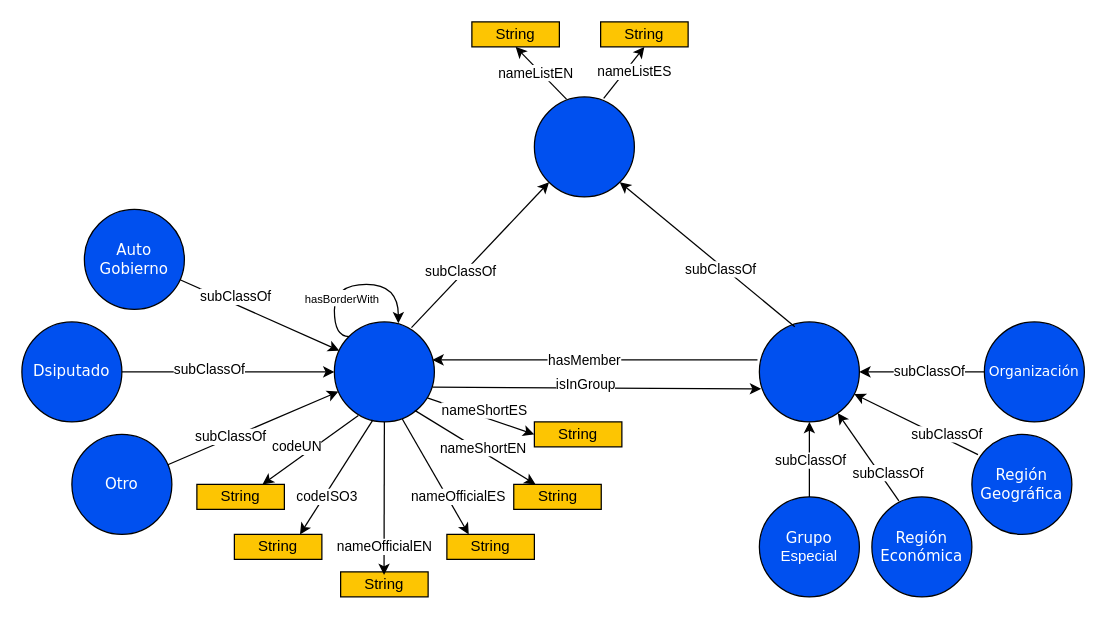
This 1106x619 diagram has some shape labels left out. The shapes that lost their labels are listed below. From the top down, each one's centre as x and y in pixels, then its label:
pixel 583 146: Lugar
pixel 383 371: Territorio
pixel 808 371: Grupo
